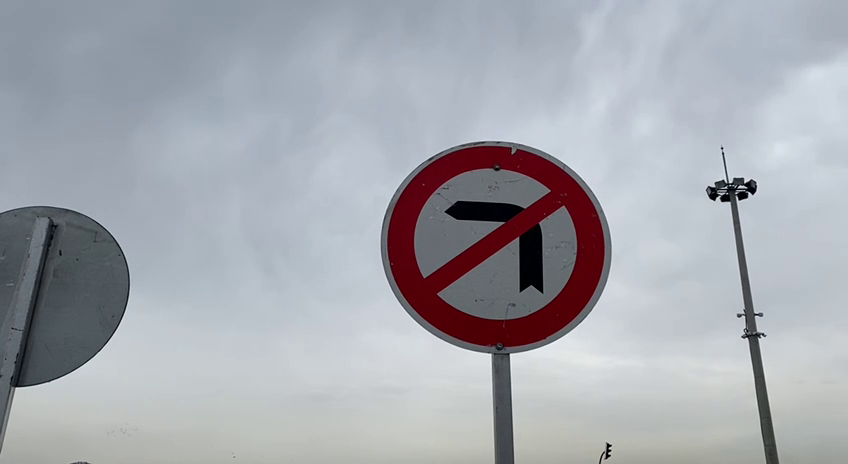noTurnLeft: (376, 136, 617, 359)
